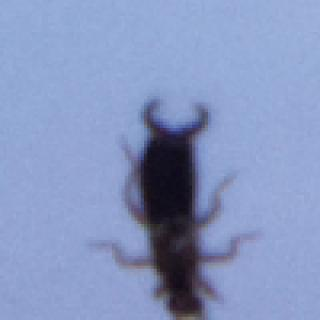earwig: (83, 89, 264, 320)
